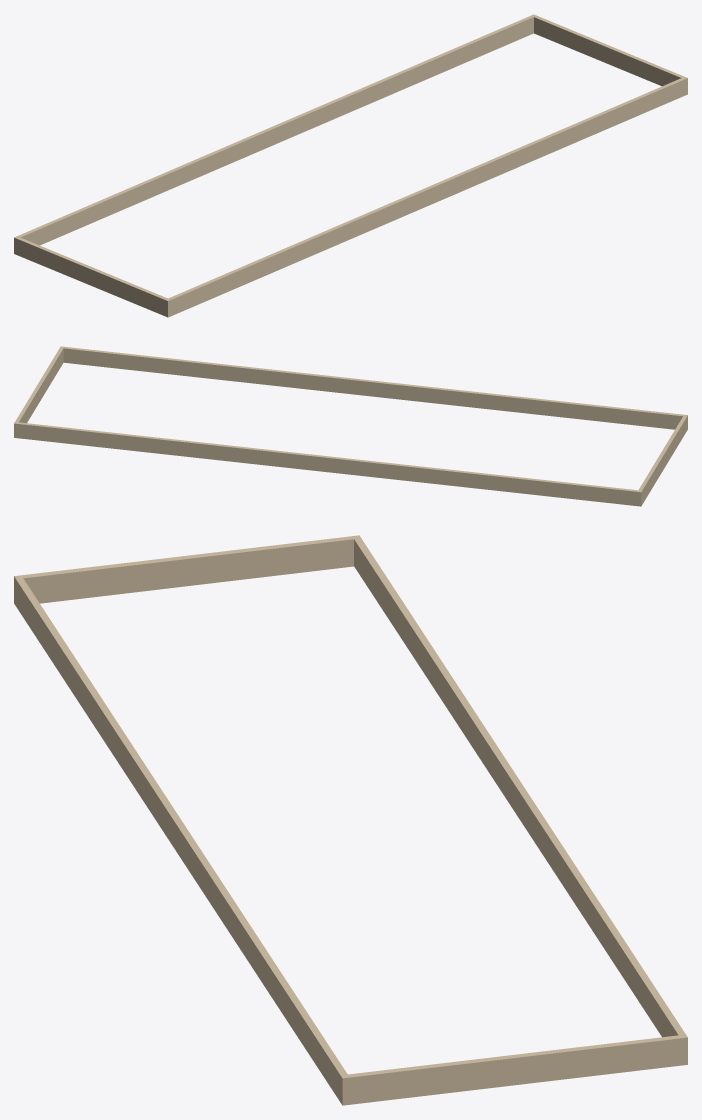
The picture shows the model from 3 angles, top to bottom: view 1: azimuth 30°, elevation 25°; view 2: azimuth 150°, elevation 25°; view 3: azimuth 270°, elevation 25°; orthographic projection. The views are drawn at different scales.
Visible parts, largest first — view 1: SM_8b300518aafd05d486fb; view 2: SM_8b300518aafd05d486fb; view 3: SM_8b300518aafd05d486fb.
Part boxes in pixels (box(x1,y1,x2,y2)): SM_8b300518aafd05d486fb: box(14, 14, 687, 317); SM_8b300518aafd05d486fb: box(14, 346, 687, 506); SM_8b300518aafd05d486fb: box(14, 535, 687, 1105).
Size of the model in its own units: 30.56 by 16.03 by 0.715.
